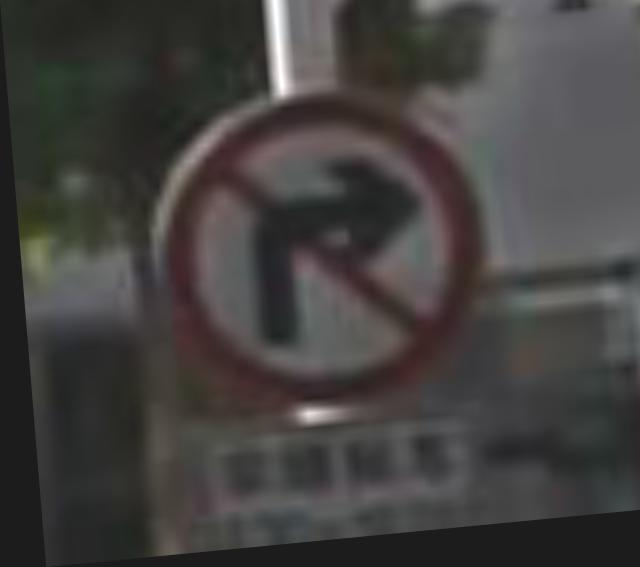not_turn_right: (130, 86, 501, 427)
